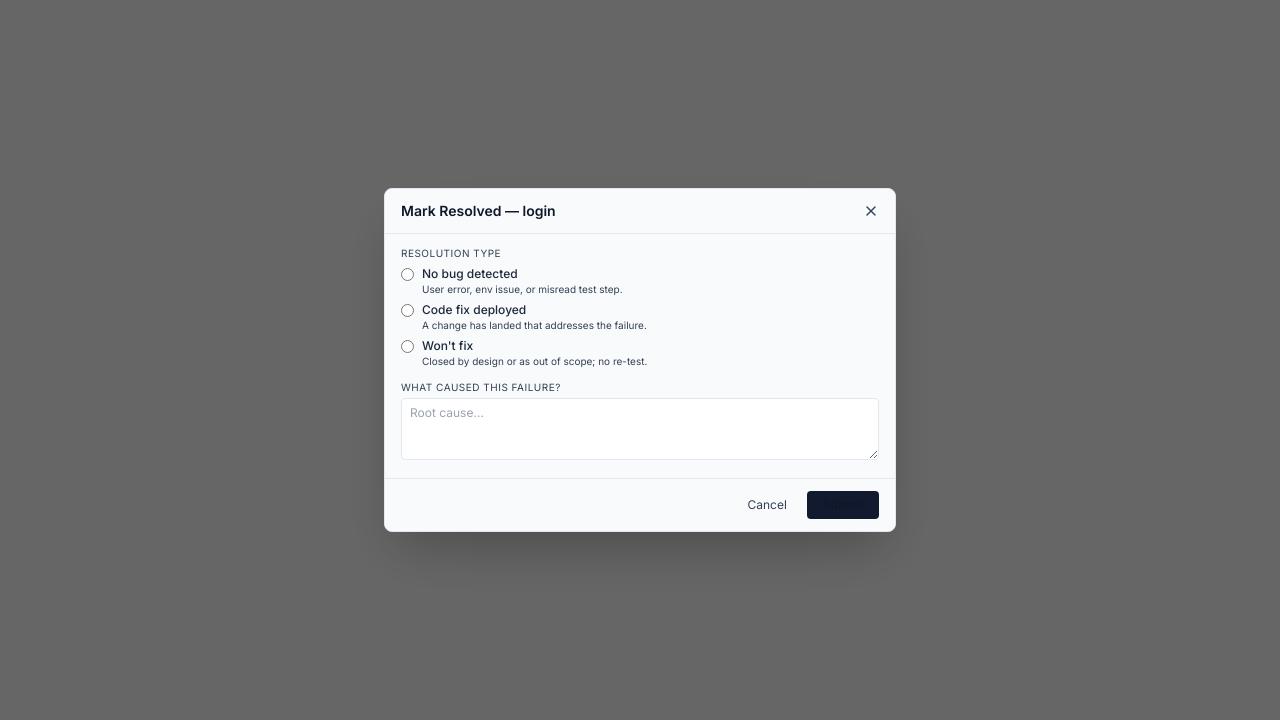
Test: ResolutionModal — Submit gate › Submit enables for no_bug_detected with only a root cause
Click the radio button labelled "No bug detected User error, env issue, or misread test step.".
click(408, 274)  # box 401,268 -> 414,281
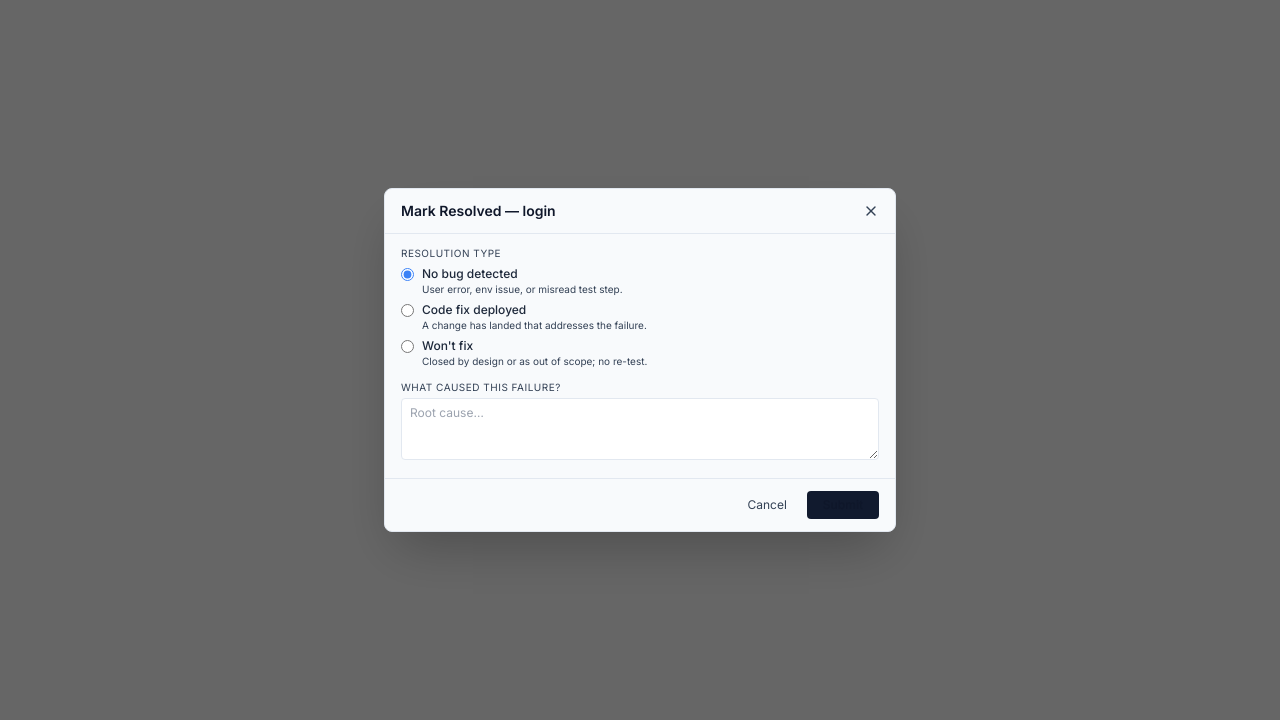
Type "User clicked the wrong button." into the text box with placeholder "Root cause…".
click(640, 429); type("User clicked the wrong button.")  # box 401,398 -> 879,460
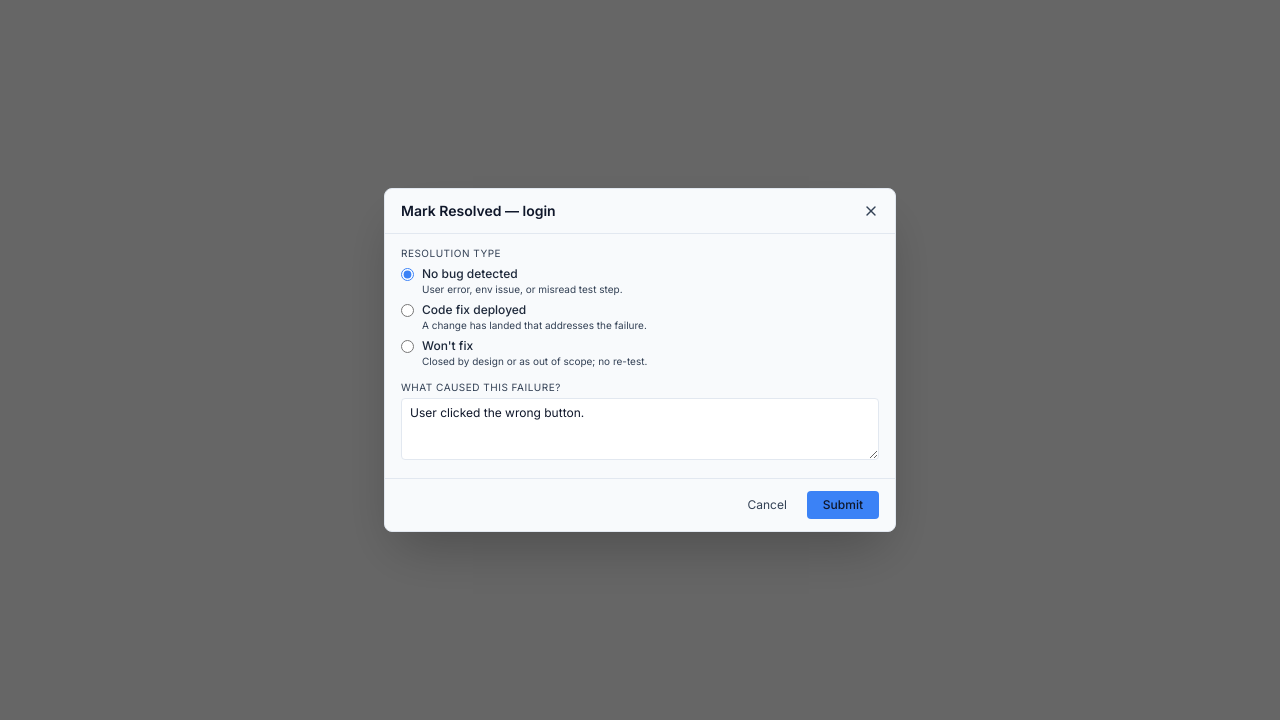
Result: the button "Submit" is enabled at 807,491 -> 879,519
